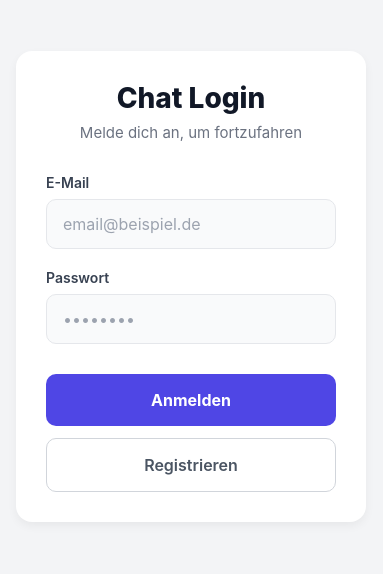
Test: SignInScreen › zeigt eine Fehlermeldung an, wenn der Login fehlschlägt
In the field with placeholder "email@beispiel.de": (191, 224) [46,198,336,248], type "test@mail.de"
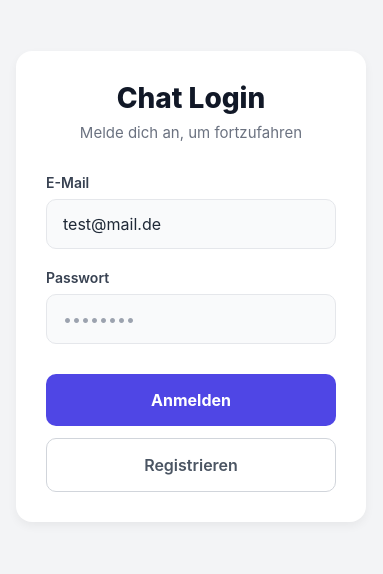
In the password field with placeholder "••••••••": (191, 318) [46,294,336,344], type "falsch"
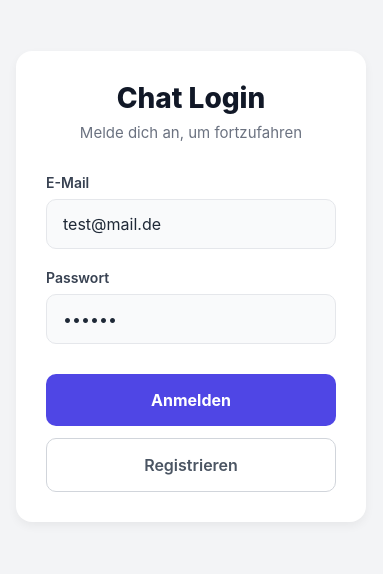
Click the text "Anmelden": (191, 400) [151,390,231,410]
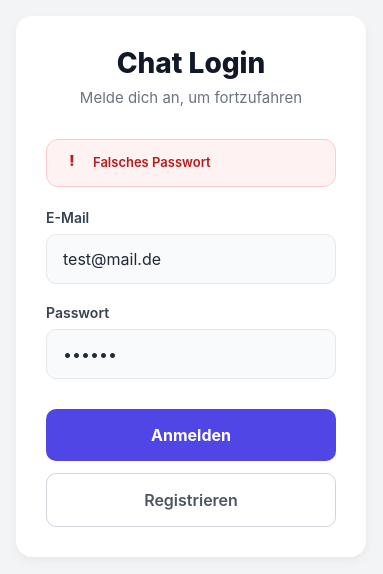
Check: the text "Falsches Passwort" is shown, box [93,154,211,170]
